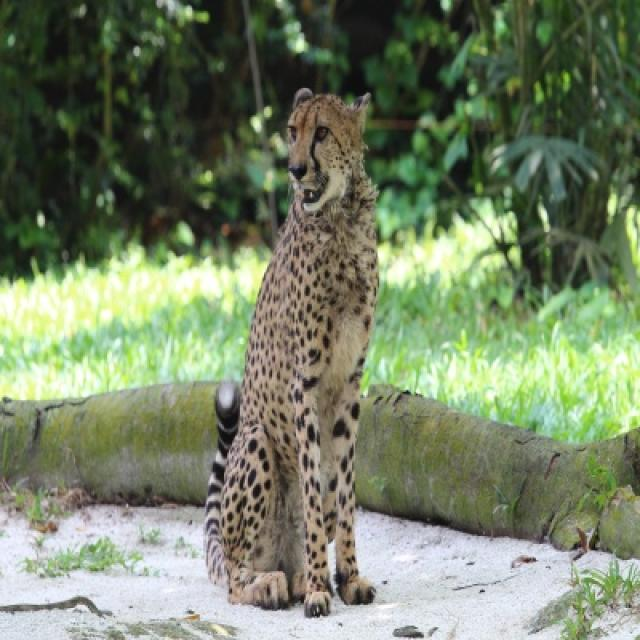Cheetah: (207, 84, 380, 611)
